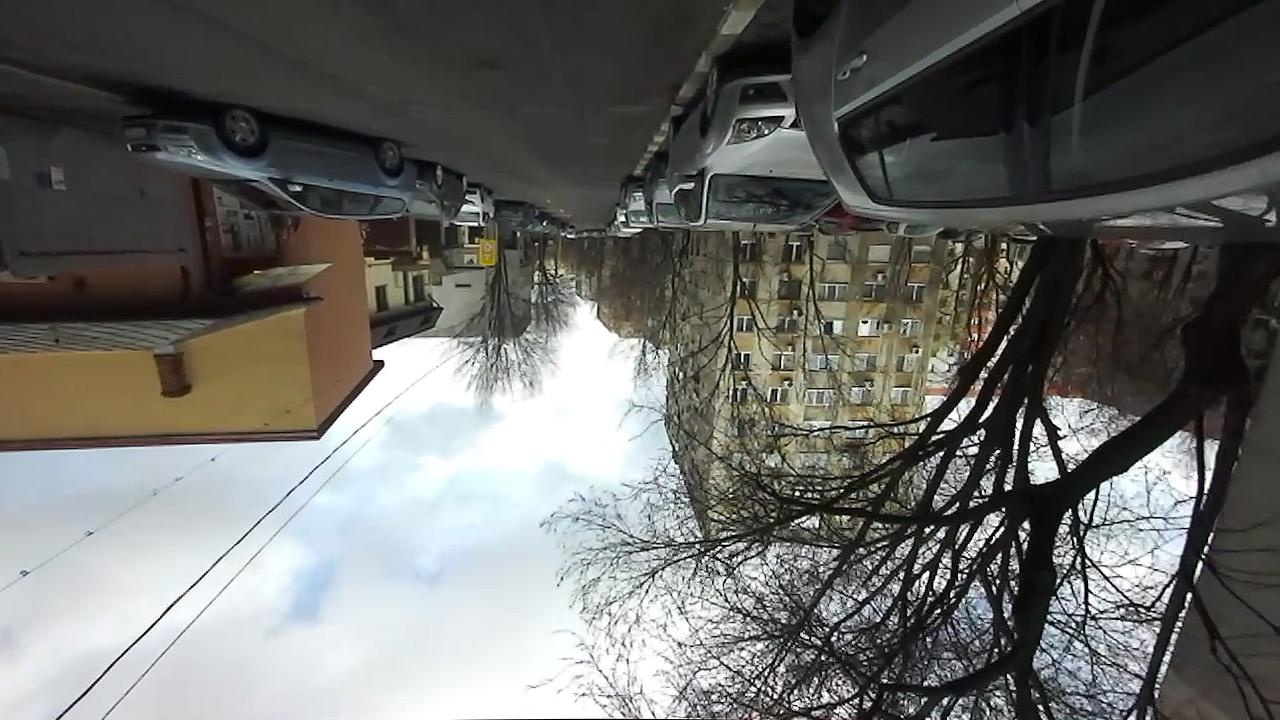pothole: (464, 55, 508, 79)
